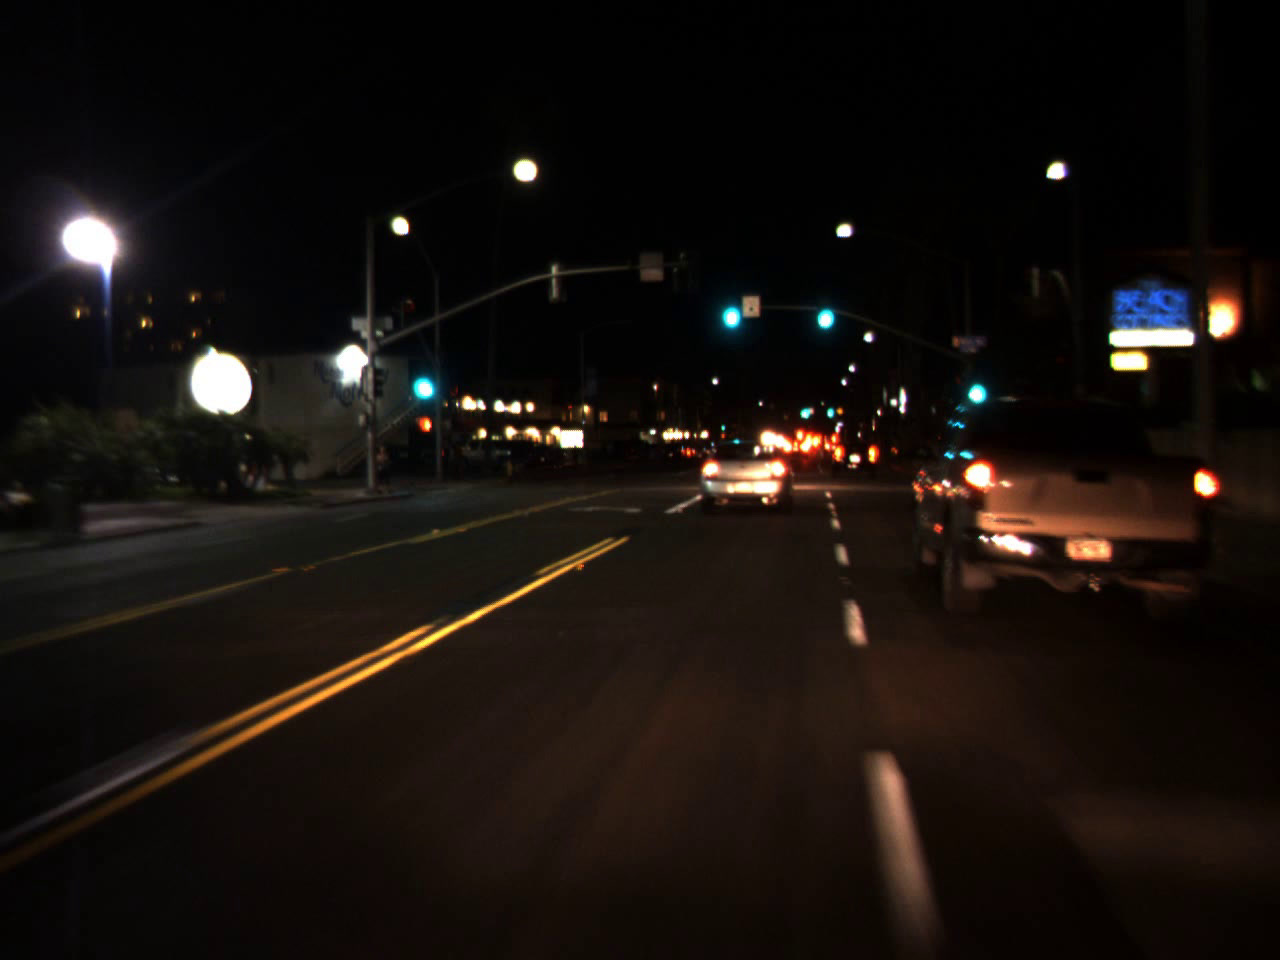go: (404, 350, 440, 407), (959, 358, 989, 412), (716, 279, 744, 336), (810, 283, 838, 337), (796, 398, 812, 419), (825, 398, 834, 419)
